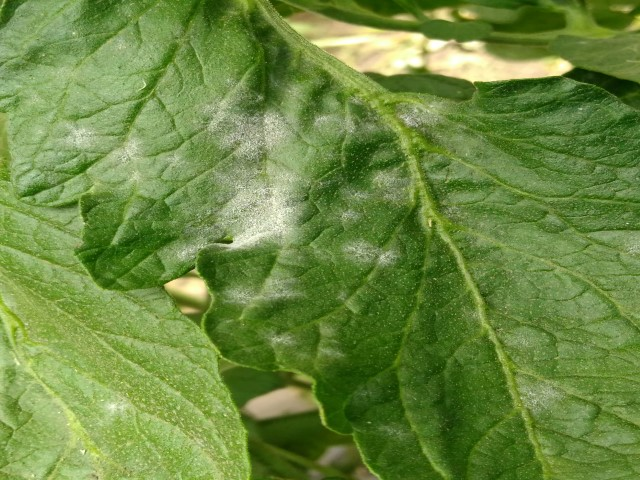blanca: (208, 173, 306, 245), (217, 104, 288, 159), (219, 277, 316, 312), (517, 373, 562, 423), (338, 242, 404, 270), (370, 173, 412, 209), (336, 185, 370, 227), (398, 98, 440, 131), (310, 113, 361, 139), (111, 134, 144, 163), (101, 388, 131, 417), (267, 327, 295, 351), (72, 124, 95, 150)
